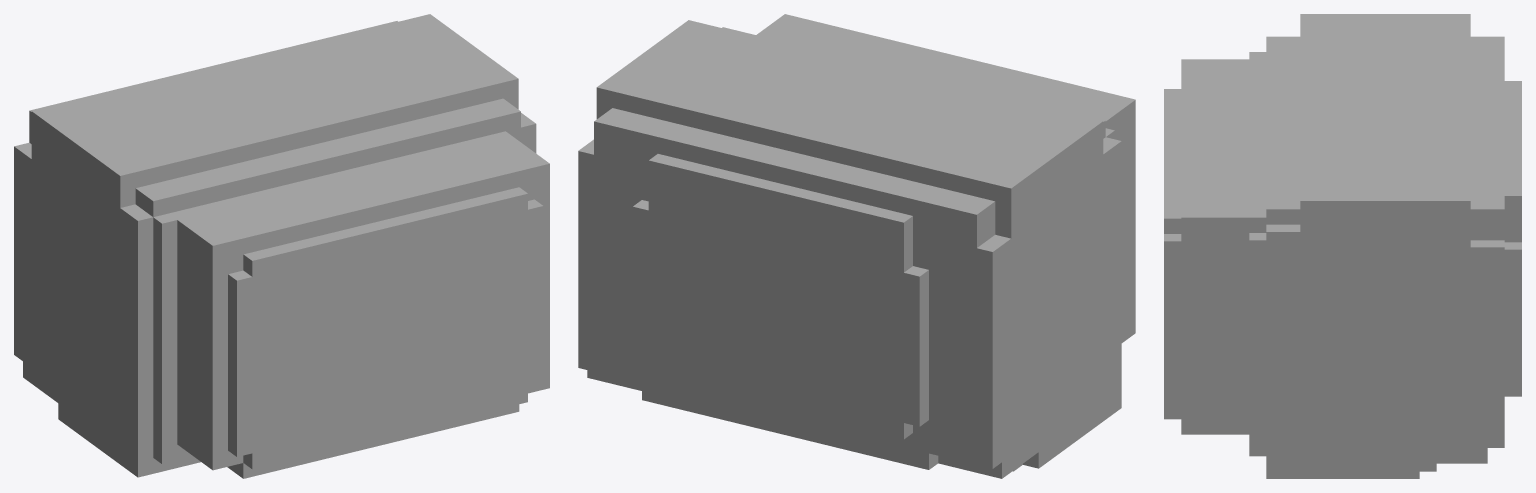
File: gorilla-1-Chest.obj
3 renders of one model, left to right at view 1: azimuth 30°, elevation 25°; view 2: azimuth 150°, elevation 25°; view 3: azimuth 270°, elevation 25°, orthographic. The views are drawn at different scales.
Parts seen in each view (by area): view 1: Chest; view 2: Chest; view 3: Chest.
Boxes of the visible parts, box(x1,y1,x2,y2) form: Chest: box(14, 14, 549, 478); Chest: box(578, 14, 1135, 478); Chest: box(1164, 14, 1521, 478).
Size of the model in its own units: 2.6 by 1.8 by 2.1.
Materials: 1 (1 with a texture image).
